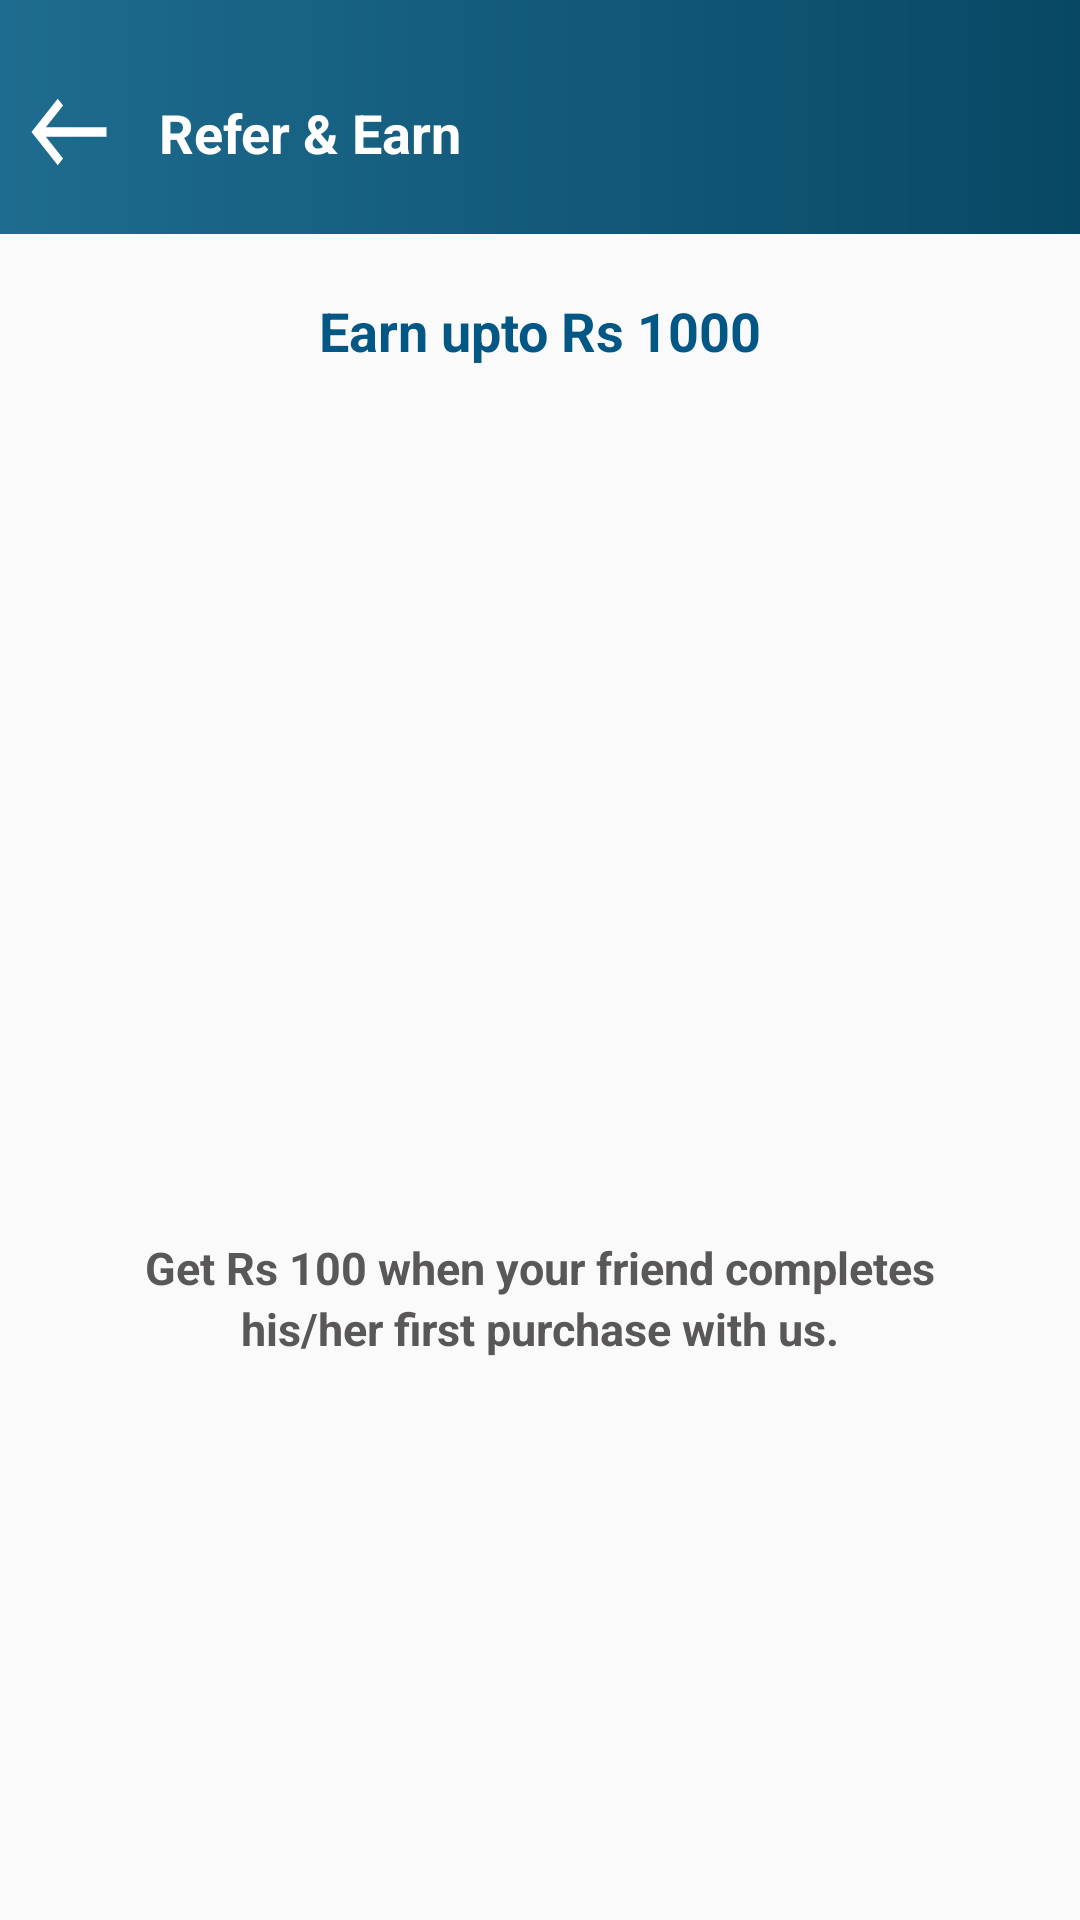

Icon click points for this 1080 x 1920 phone screenshot, format [x,y]:
west: [69,132]
